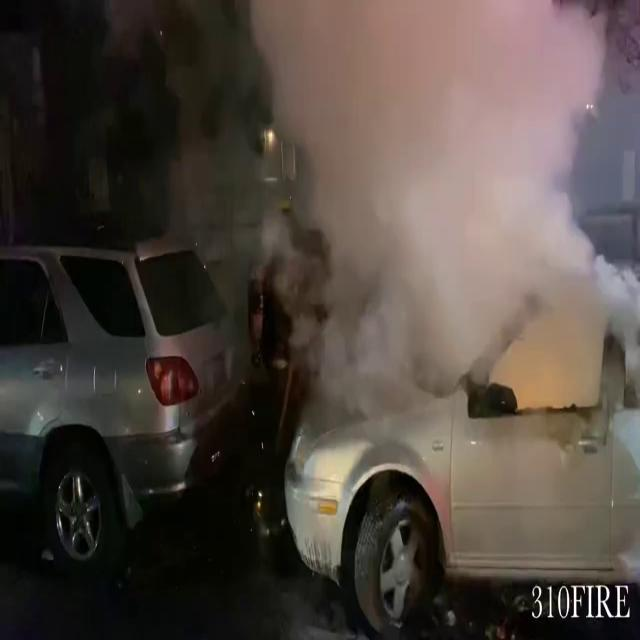Smoke: (162, 1, 632, 410)
